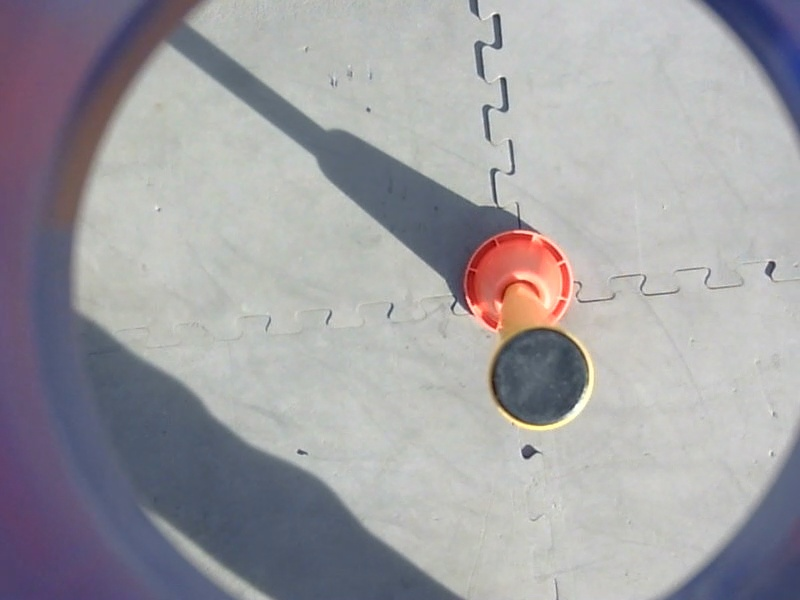tip: (483, 321, 600, 439)
